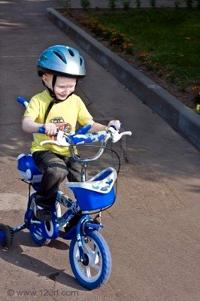person: (22, 44, 123, 234)
